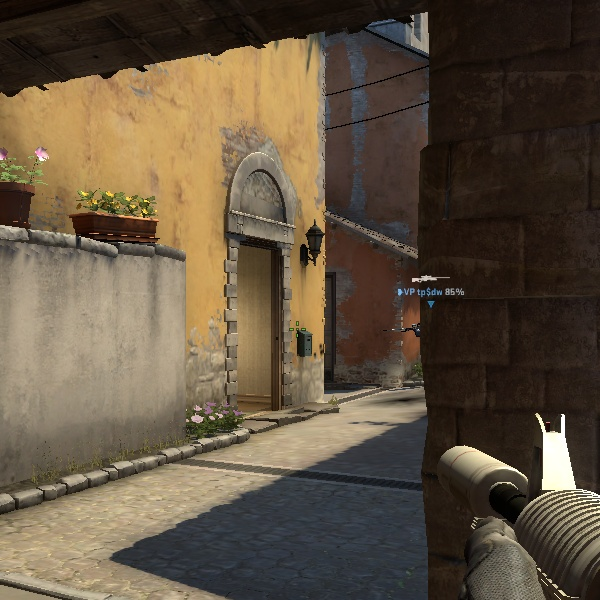t_body: (397, 316, 425, 388)
